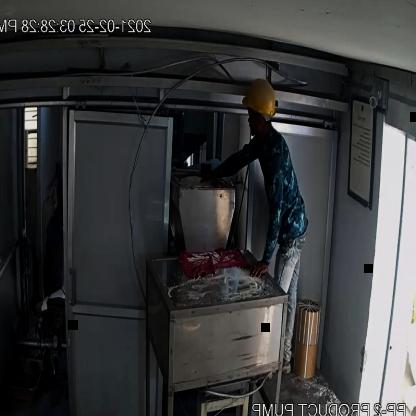helmet: (240, 75, 278, 118)
